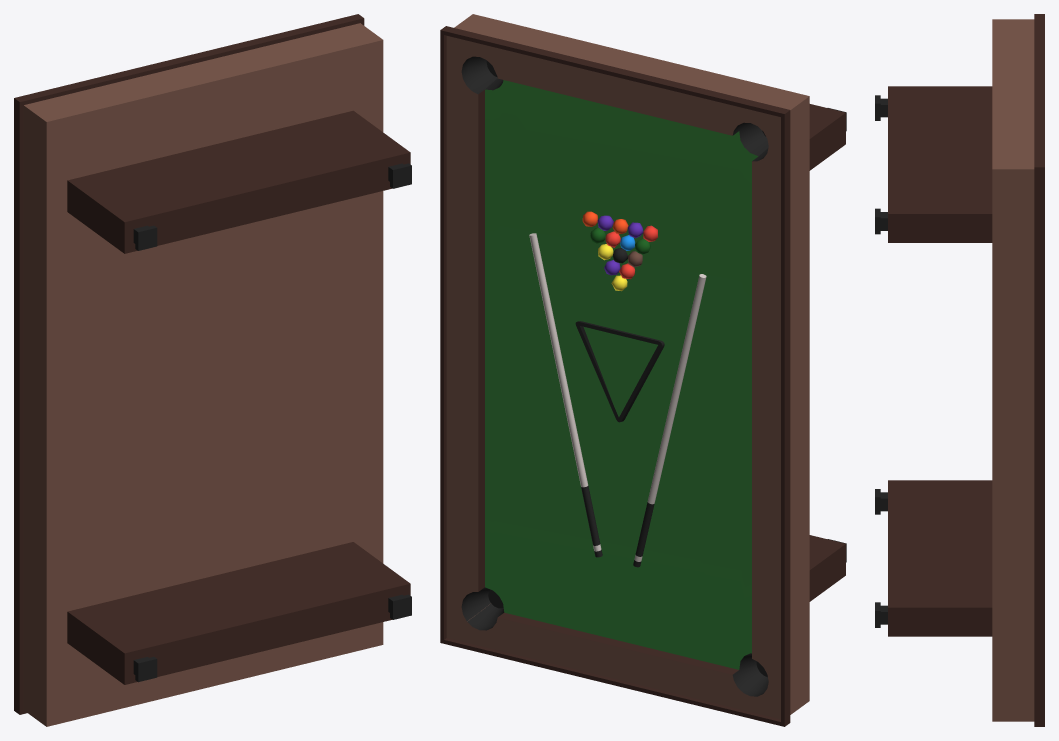
Rendered from game-table.glb.
The picture shows the model from 3 angles, left to right: view 1: azimuth 30°, elevation 25°; view 2: azimuth 150°, elevation 25°; view 3: azimuth 270°, elevation 25°; orthographic projection. The views are drawn at different scales.
Parts seen in each view (by area): view 1: entertainment_001; view 2: entertainment_001; view 3: entertainment_001.
Part boxes in pixels (x1,y1,x2,y2): entertainment_001: (14, 14, 411, 726); entertainment_001: (440, 14, 846, 726); entertainment_001: (875, 14, 1044, 726).
Bounding box in the file's own units: 1.39 × 2.37 × 0.6526.
1 material, 1 textured.
